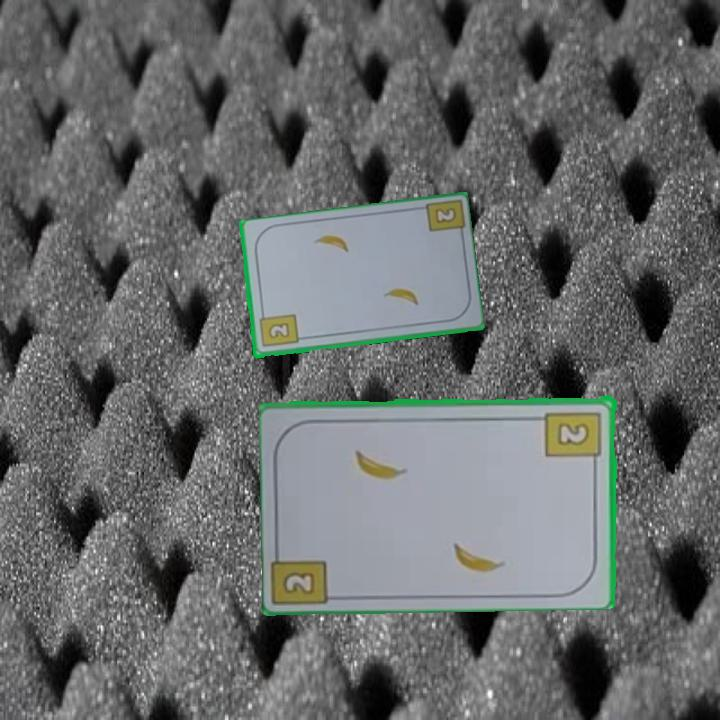2b: (543, 407, 605, 469), (255, 308, 300, 350), (283, 570, 315, 594), (431, 204, 459, 227)
